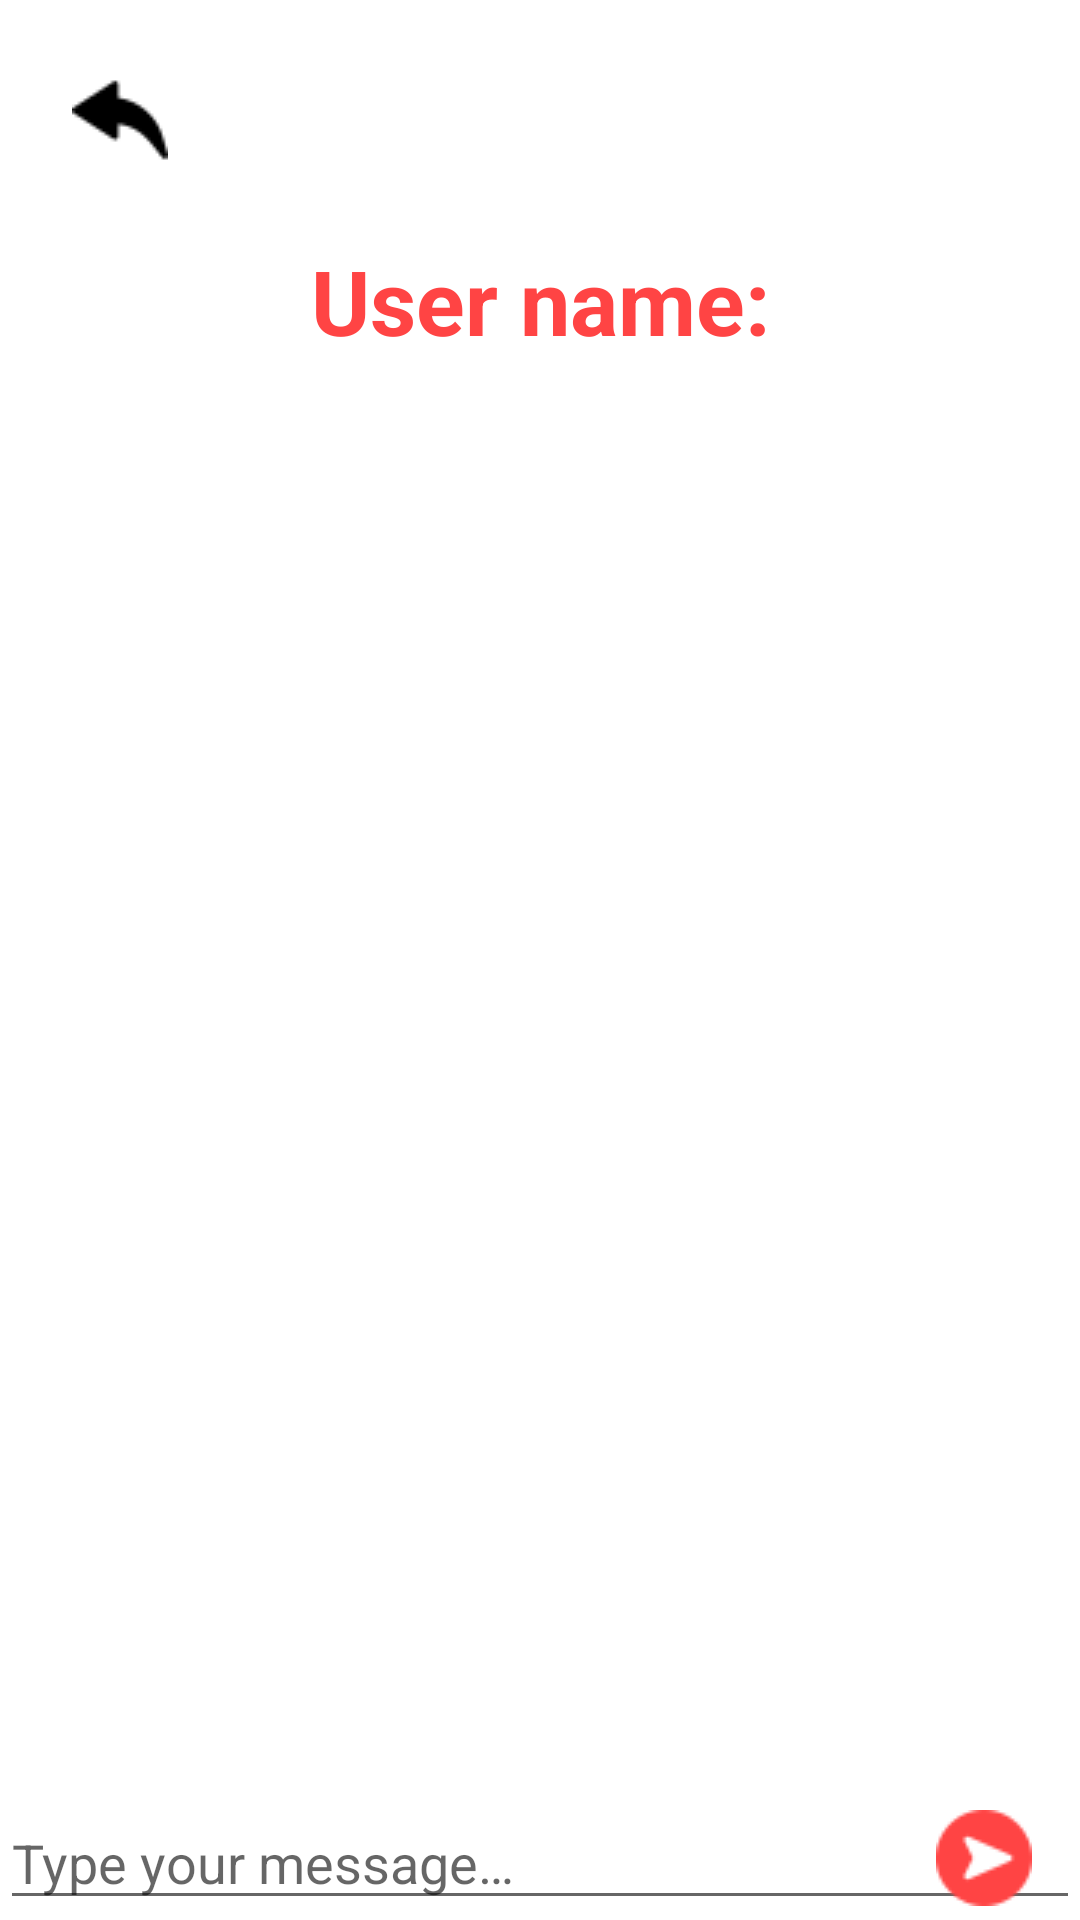

Where to tap for icons on this 1080px×1920px app screen, as point (x, y):
back: point (120, 120)
send: point (984, 1858)
